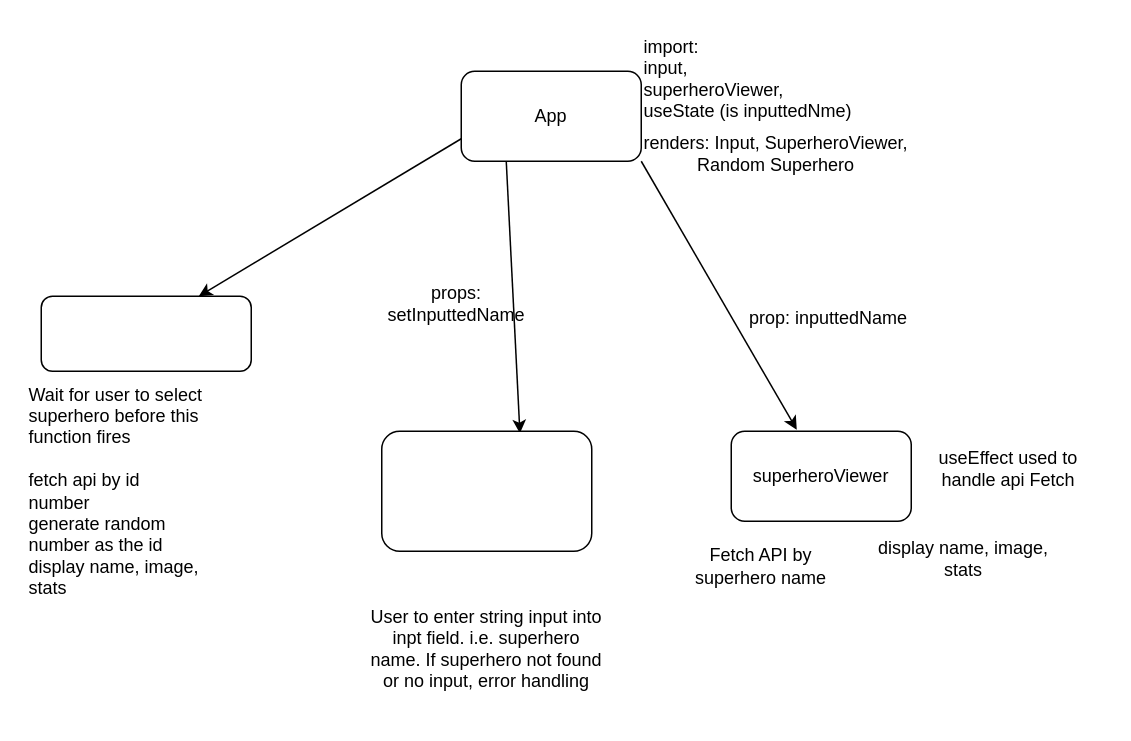
The diagram is 1131 pixels wide and 741 high, and some of its shapes have lost their labels. Each missing label, with the centre of its shape:
"input" goes at (486,490).
"Random Superhero" goes at (145,333).
